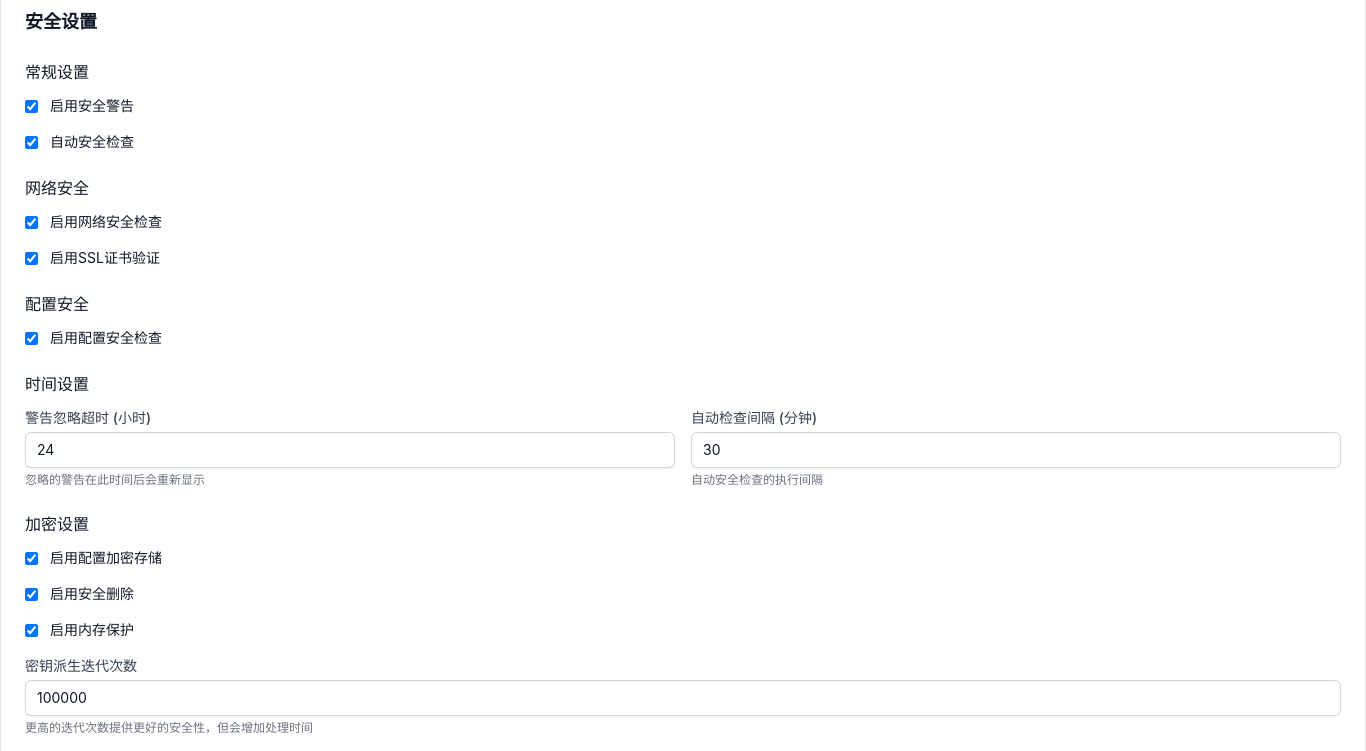
Scenario: Security Components Integration › SecuritySettings Component › should update security settings
Click the checkbox labelled "启用安全警告".
click(32, 106)  # box top-left (25, 100), bottom-right (38, 112)
(page scrolled)
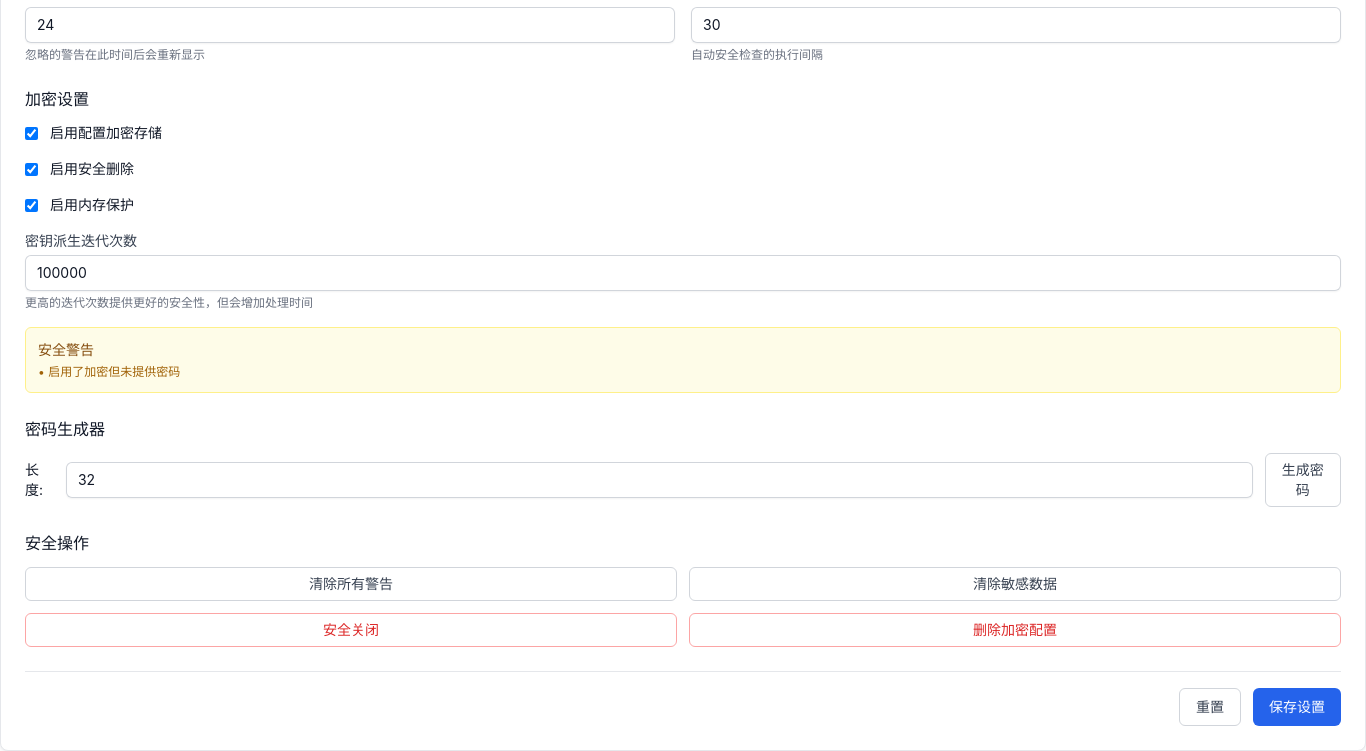
Expected: the button "保存设置" is enabled
Click the button "保存设置".
click(1297, 707)  # box top-left (1253, 688), bottom-right (1341, 726)
(page scrolled)
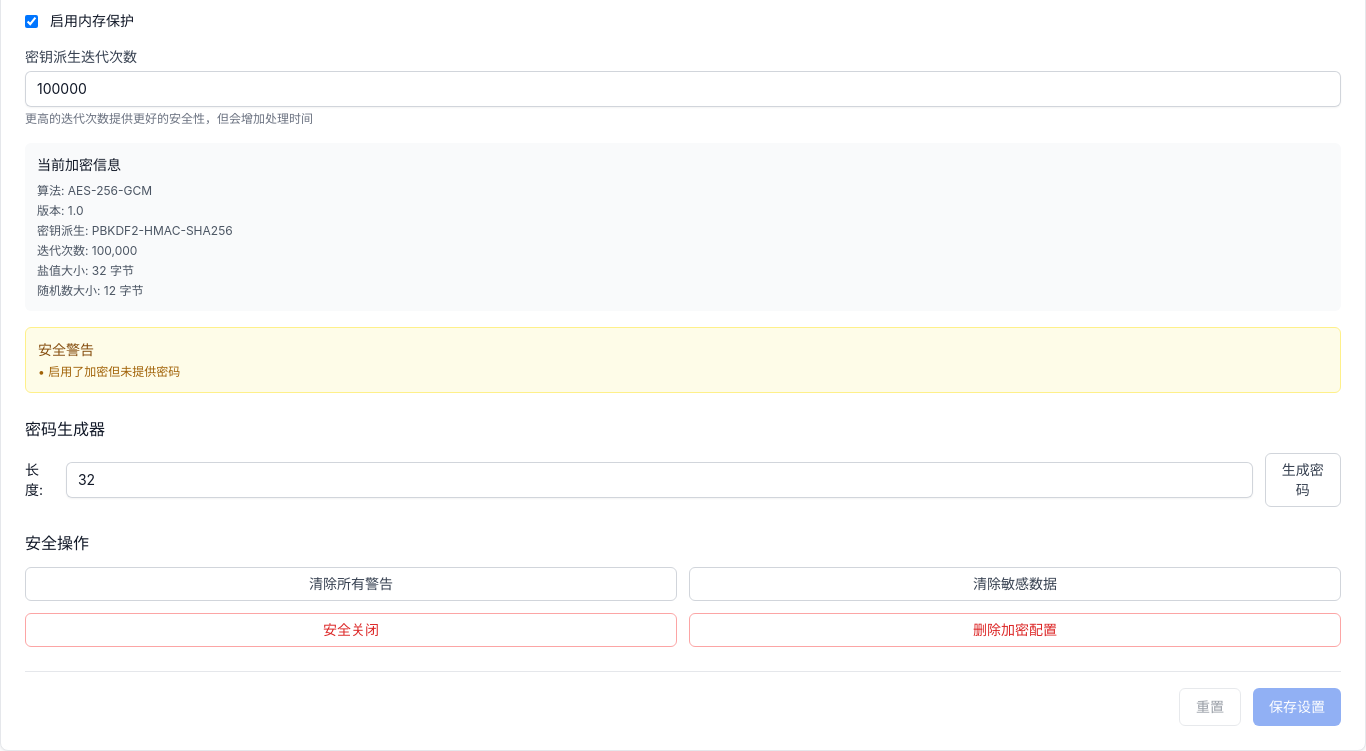
Expected: the button "保存设置" is disabled, top-left (1253, 688), bottom-right (1341, 726)
